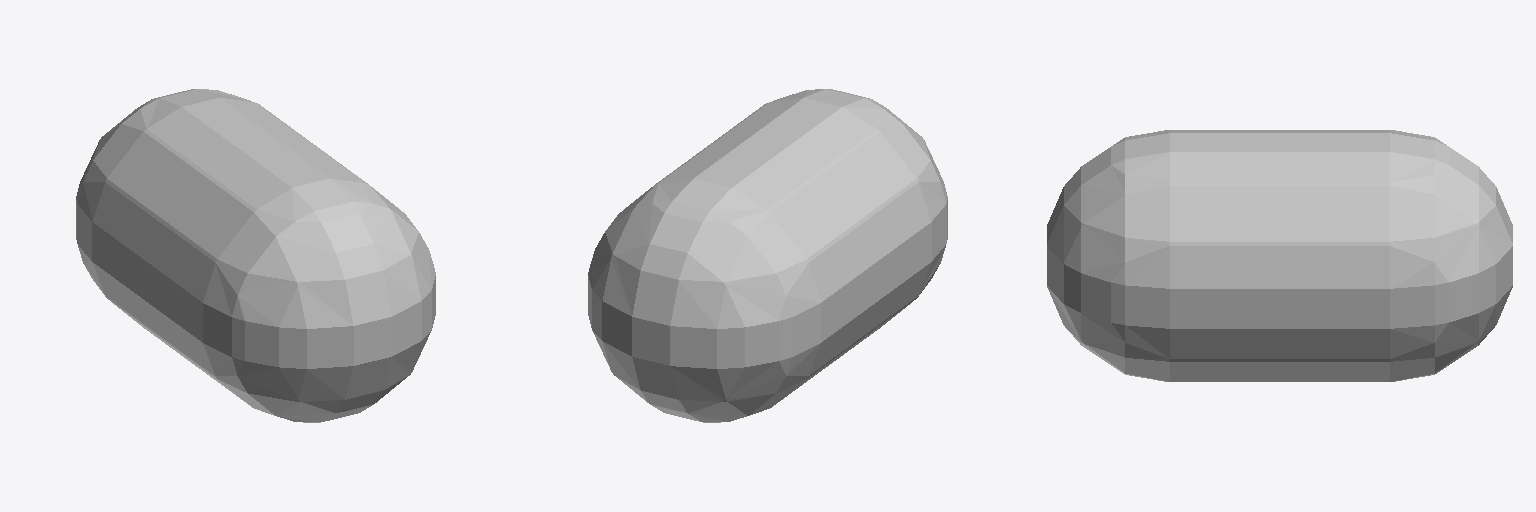
3 views of the same model, side by side, from view 1: azimuth 30°, elevation 25°; view 2: azimuth 150°, elevation 25°; view 3: azimuth 270°, elevation 25° (orthographic).
Visible parts, largest first — view 1: Mball; view 2: Mball; view 3: Mball.
Boxes of the visible parts, <box> form: Mball: <box>76,89,435,422</box>; Mball: <box>588,89,947,422</box>; Mball: <box>1047,130,1512,381</box>.
Bounding box in the file's own units: 2.27 × 2.27 × 4.23.